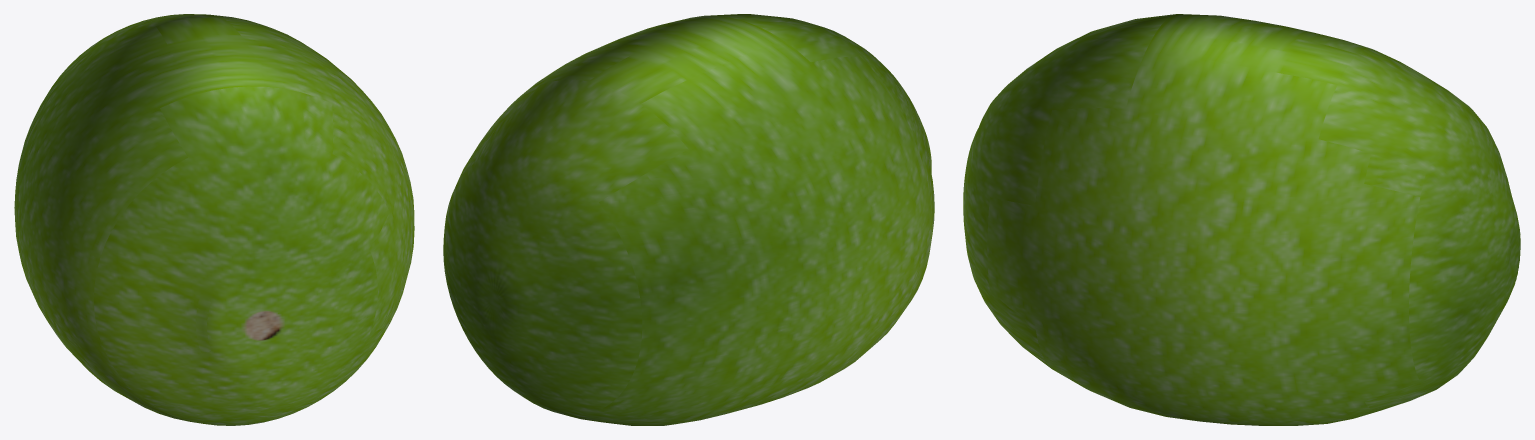
File: lemon.obj
3 views of the same model, side by side, from view 1: azimuth 30°, elevation 25°; view 2: azimuth 150°, elevation 25°; view 3: azimuth 270°, elevation 25° (orthographic). The views are drawn at different scales.
Parts seen in each view (by area): view 1: Spherwe001; view 2: Spherwe001; view 3: Spherwe001.
Part boxes in pixels (x1=…): Spherwe001: x1=14, y1=14, x2=414, y2=425; Spherwe001: x1=443, y1=14, x2=934, y2=425; Spherwe001: x1=963, y1=14, x2=1520, y2=425.
Bounding box in the file's own units: 32.15 × 28.48 × 39.79.
Materials: 1 (1 with a texture image).
